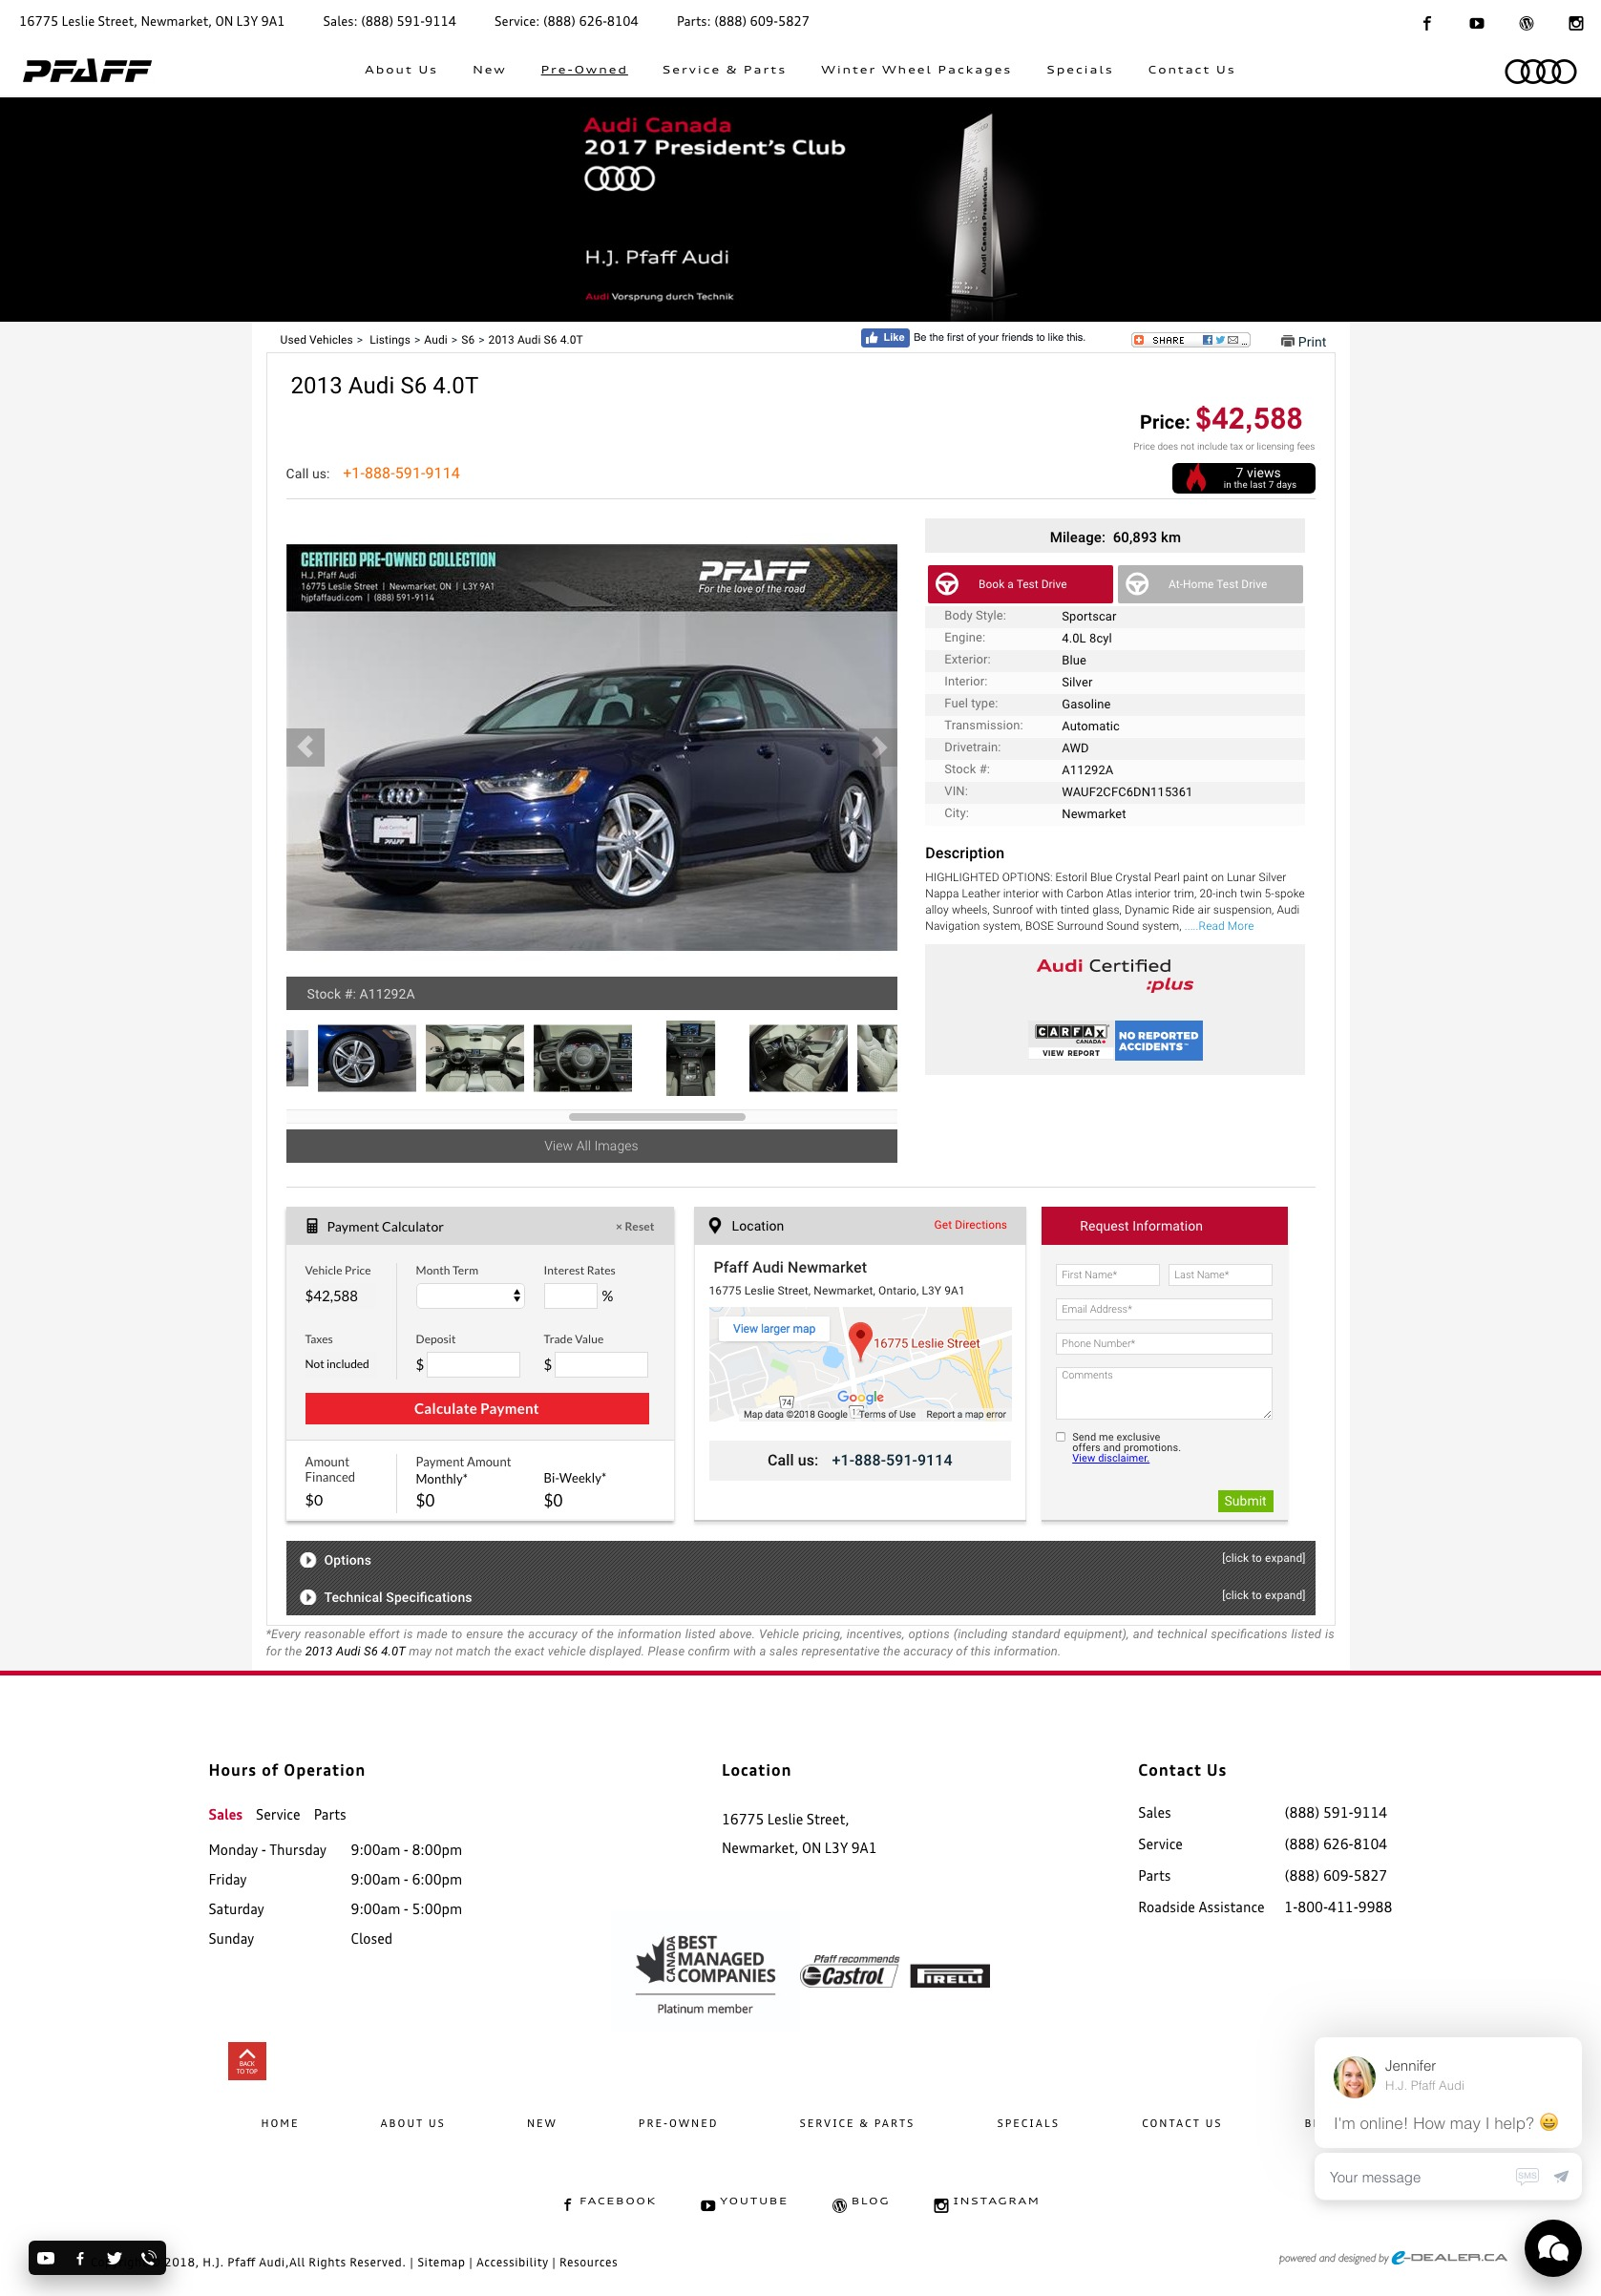car: (870, 736, 889, 761)
